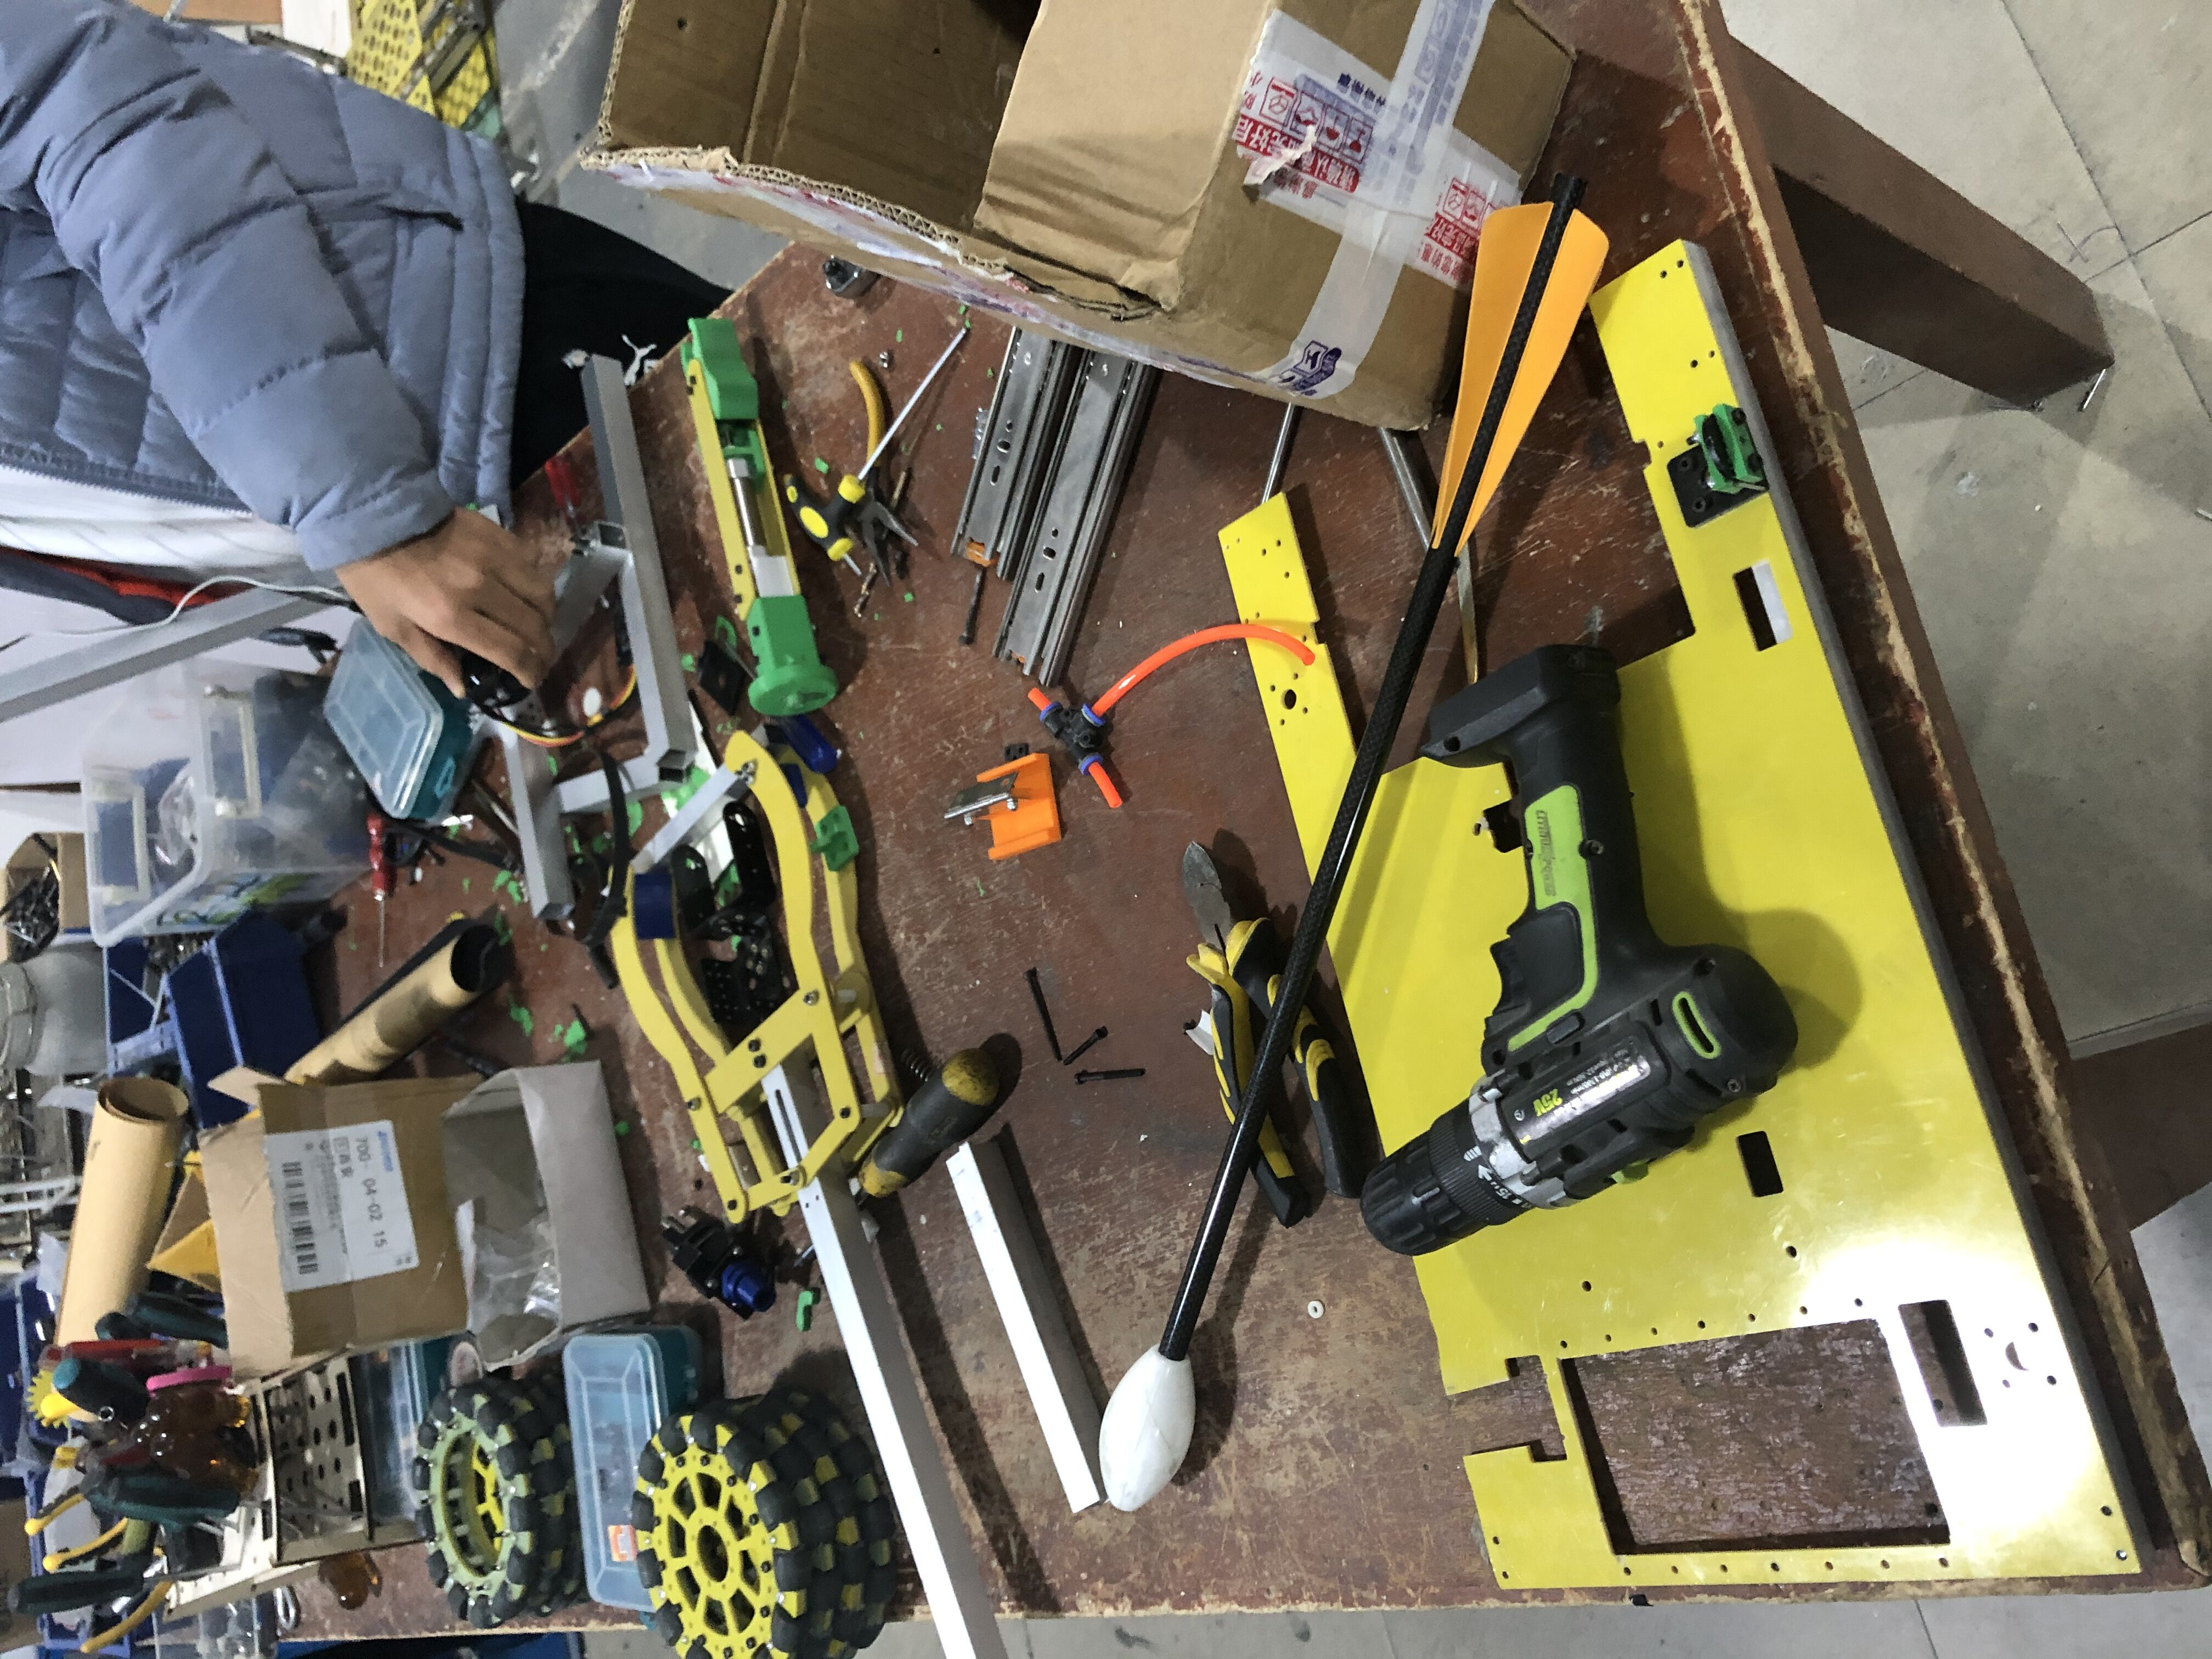arrow: (1092, 176, 1613, 1518)
arrowFront: (1097, 1342, 1195, 1518)
